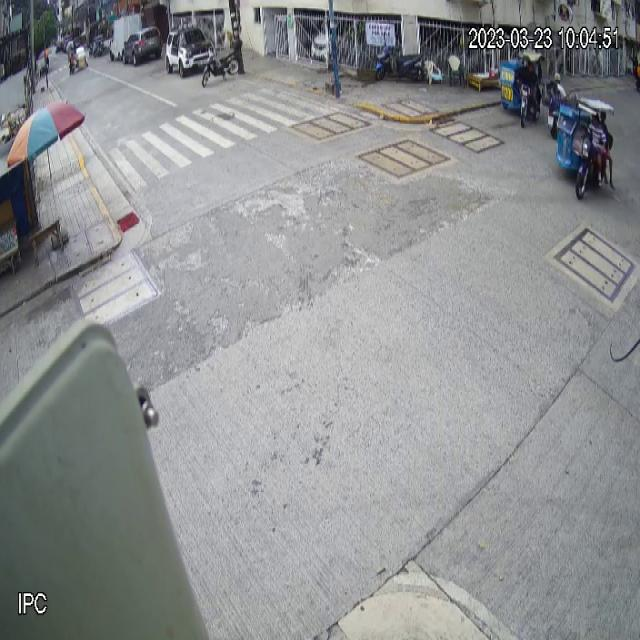Tricycle: (556, 94, 615, 198), (498, 48, 544, 130)
